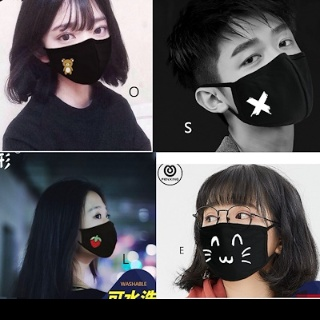with_mask: (217, 20, 308, 126), (196, 200, 279, 283), (43, 14, 112, 86), (80, 203, 119, 260)
